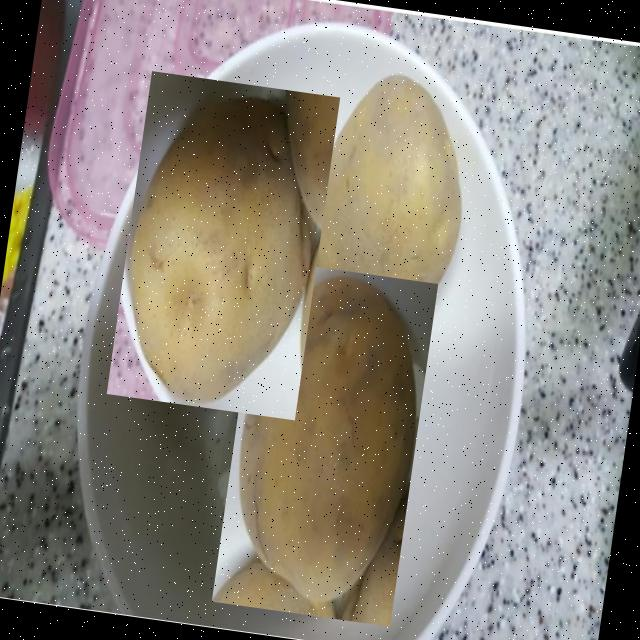Potato: (212, 258, 438, 626), (107, 70, 340, 420), (298, 59, 484, 346)
